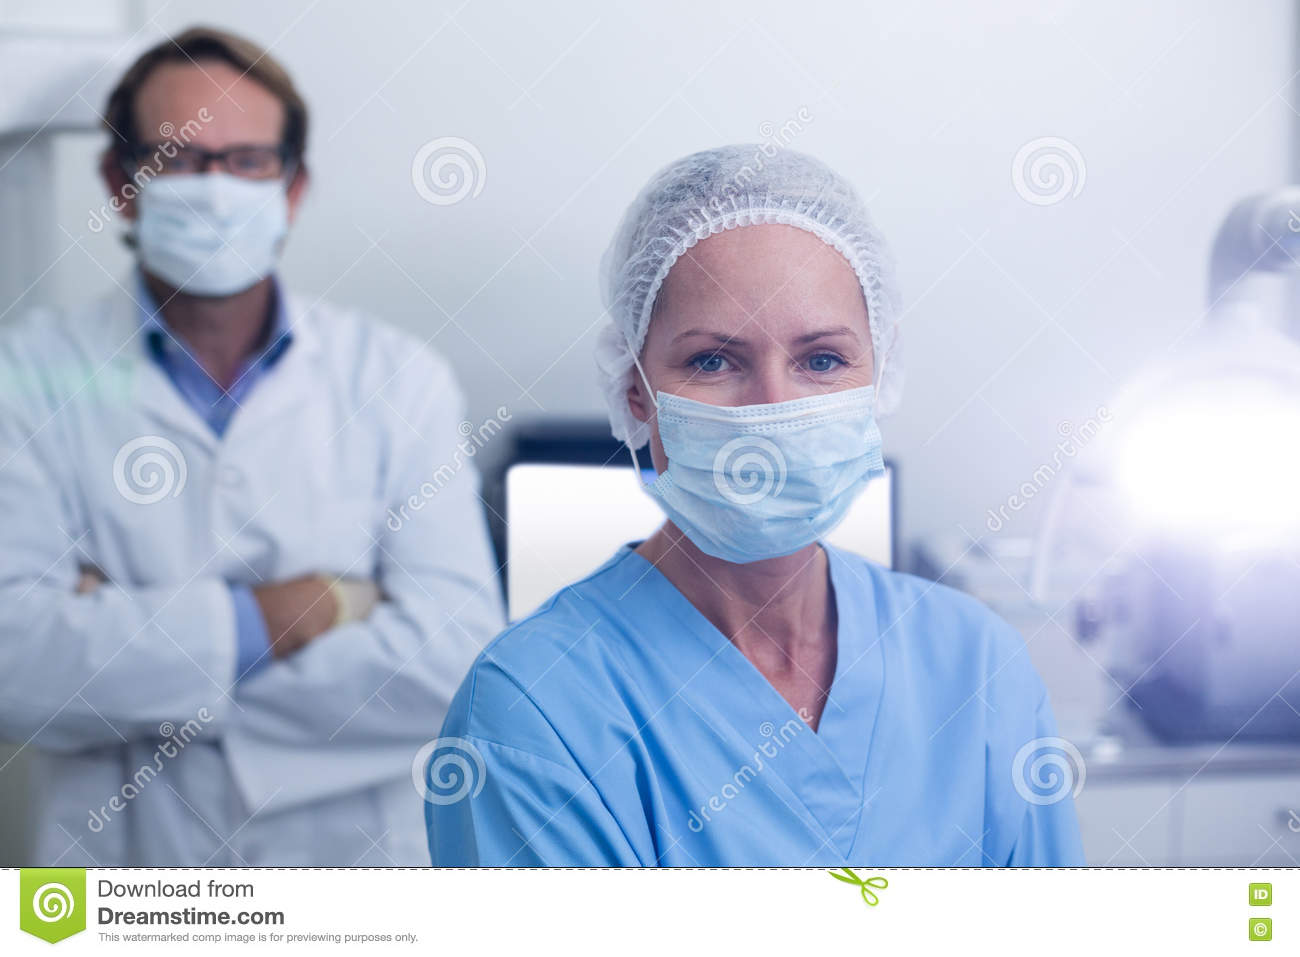mask: (657, 386, 873, 571), (136, 174, 291, 289)
